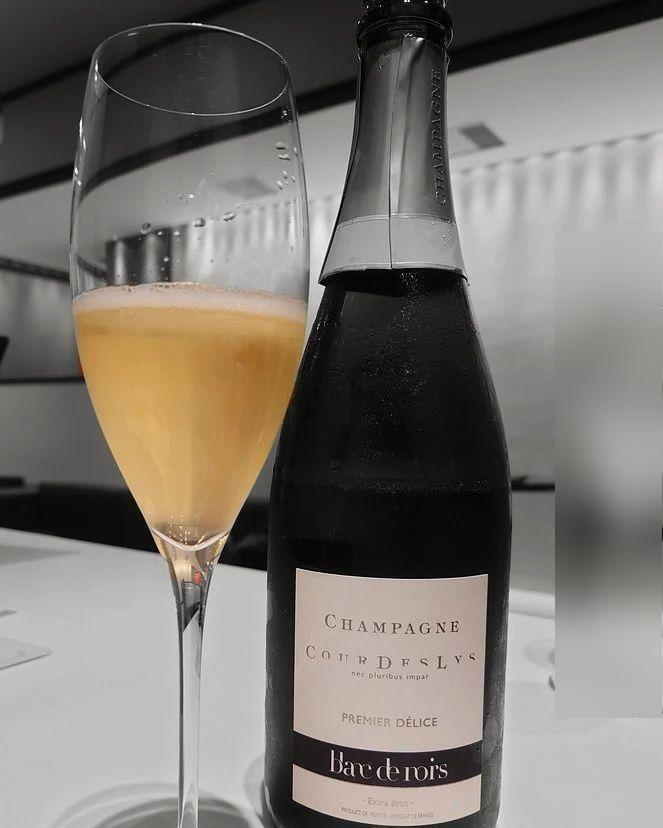bottle-glass: (244, 0, 523, 828)
glass-wine: (54, 19, 323, 828)
